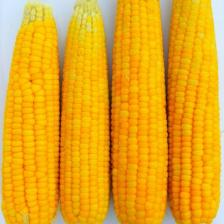yellow: (1, 2, 59, 224), (111, 0, 168, 224), (168, 0, 221, 224), (60, 1, 110, 224)
